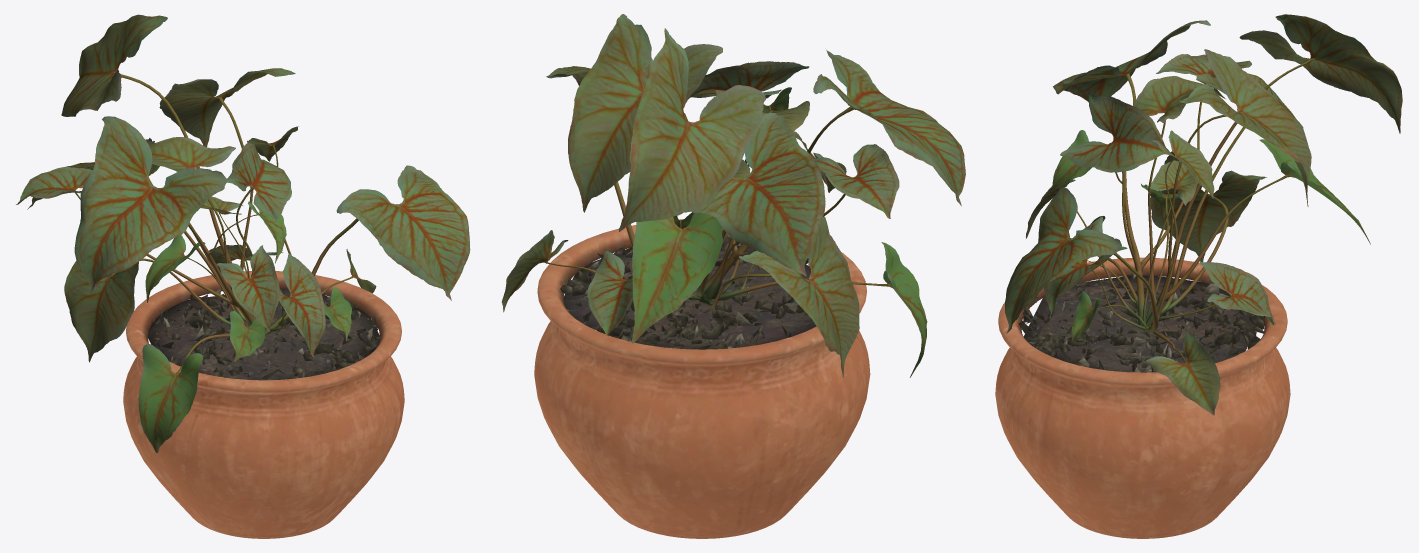
The model's file is plant.glb.
3 views of the same model, side by side, from view 1: azimuth 30°, elevation 25°; view 2: azimuth 150°, elevation 25°; view 3: azimuth 270°, elevation 25° (orthographic). The views are drawn at different scales.
Visible parts, largest first — view 1: leaves, pot, dirt; view 2: leaves, pot, dirt; view 3: leaves, pot, dirt.
Part boxes in pixels (box(x1,y1,x2,y2)): leaves: box(16, 14, 470, 452); pot: box(123, 271, 404, 538); dirt: box(148, 288, 381, 380); leaves: box(501, 14, 965, 377); pot: box(534, 219, 870, 538); dirt: box(560, 235, 816, 349); leaves: box(1005, 14, 1402, 415); pot: box(995, 257, 1290, 538); dirt: box(1018, 273, 1264, 372).
Bounding box in the file's own units: 0.7012 × 0.8412 × 0.6574.
Materials: 2 (2 with a texture image).
